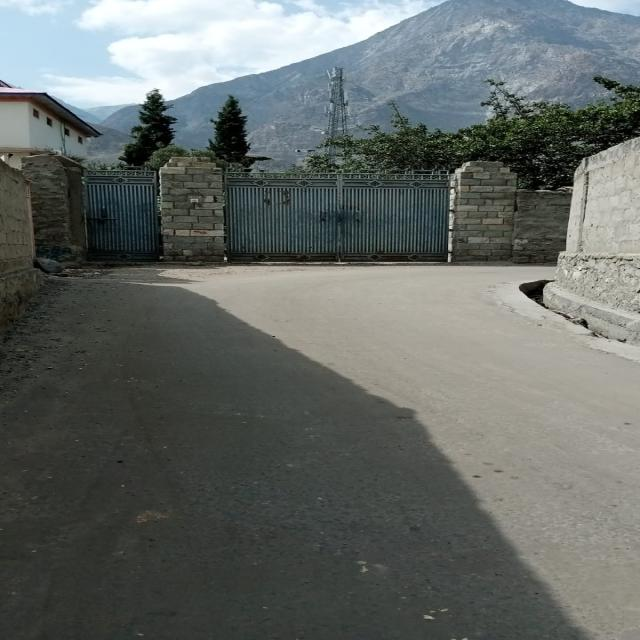Right-Turn: (338, 252, 548, 359)
